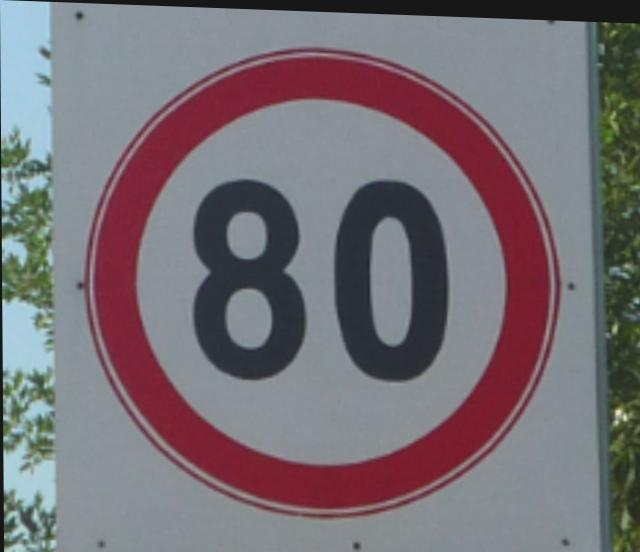limit80: (79, 30, 566, 529)
